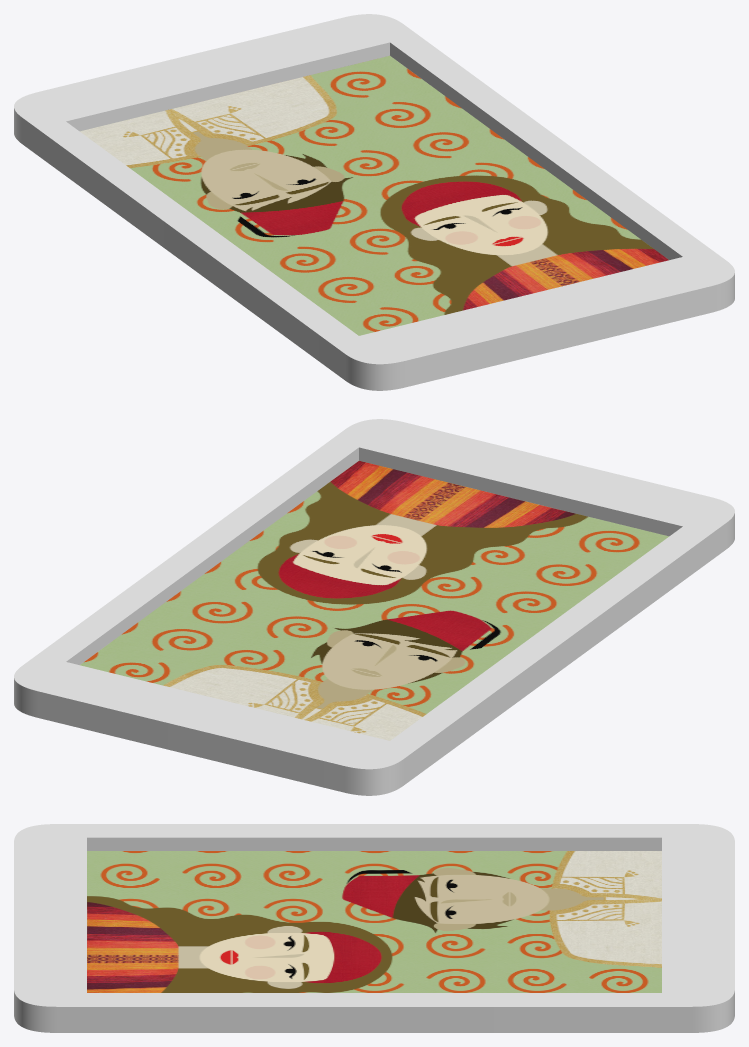
The model's file is Villageois 1.fbx.
3 views of the same model, one above another, from view 1: azimuth 30°, elevation 25°; view 2: azimuth 150°, elevation 25°; view 3: azimuth 270°, elevation 25° (orthographic).
Parts seen in each view (by area): view 1: Card V1; view 2: Card V1; view 3: Card V1.
Boxes of the visible parts, x1,y1,x2,y2 form: Card V1: (14, 14, 734, 390); Card V1: (14, 419, 734, 795); Card V1: (14, 824, 734, 1032).
Size of the model in its own units: 4.72 by 0.315 by 7.87.
